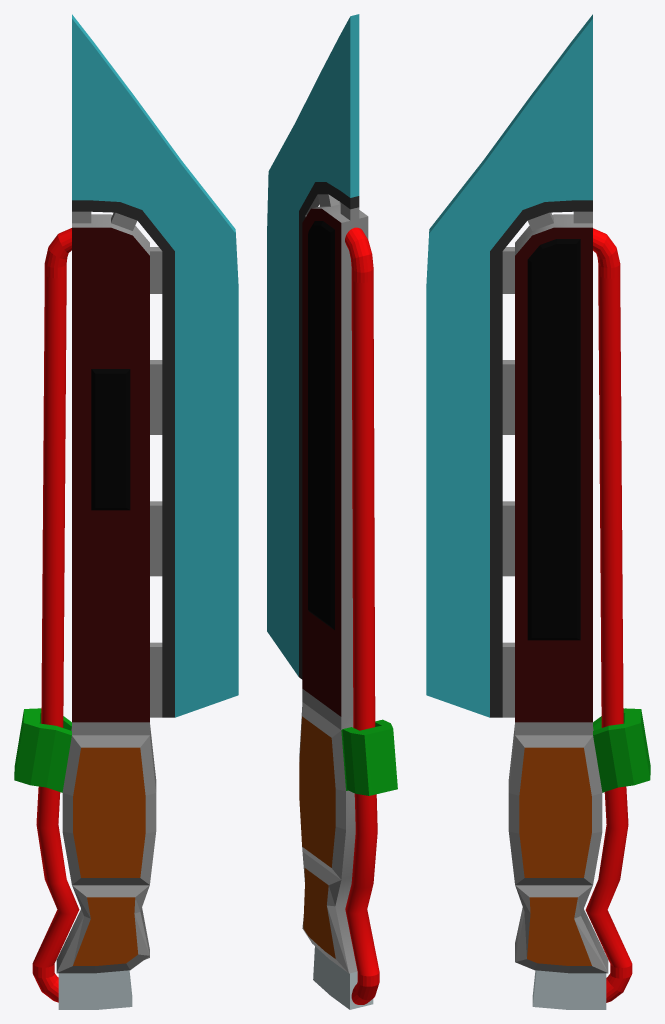
The model's file is neon sword.fbx.
The picture shows the model from 3 angles, left to right: view 1: azimuth 90°, elevation 25°; view 2: azimuth 210°, elevation 25°; view 3: azimuth 270°, elevation 25°; orthographic projection.
Visible parts, largest first — view 1: Box001, Tube001; view 2: Box001, Tube001; view 3: Box001, Tube001.
Part boxes in pixels (box(x1,y1,x2,y2)): Box001: box(14, 14, 238, 1009); Tube001: box(32, 228, 79, 1002); Box001: box(267, 14, 397, 1009); Tube001: box(345, 227, 379, 1004); Box001: box(426, 14, 650, 1009); Tube001: box(585, 228, 632, 1002).
Size of the model in its own units: 5.94 by 140 by 28.8.
